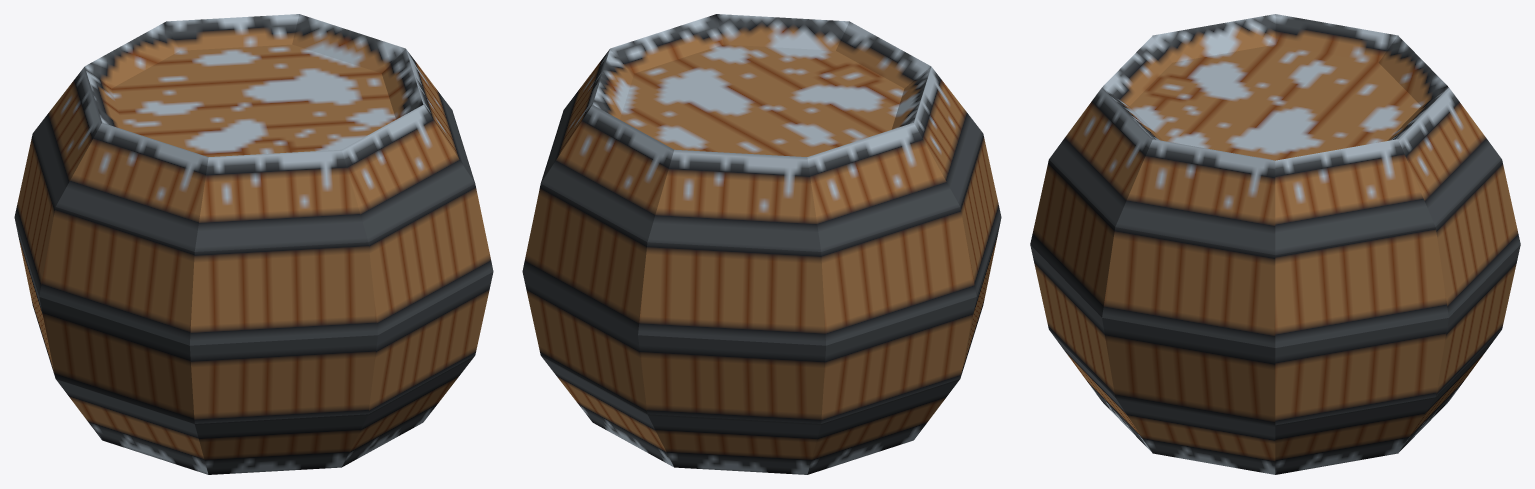
Rendered from Barrel2.glb.
3 renders of one model, left to right at view 1: azimuth 30°, elevation 25°; view 2: azimuth 150°, elevation 25°; view 3: azimuth 270°, elevation 25°, orthographic.
Parts seen in each view (by area): view 1: Sphere; view 2: Sphere; view 3: Sphere.
Part boxes in pixels (box(x1,y1,x2,y2)): Sphere: box(14, 14, 493, 474); Sphere: box(522, 14, 1001, 474); Sphere: box(1030, 14, 1520, 474).
Bounding box in the file's own units: 1.29 × 0.9092 × 1.29.
1 material, 1 textured.
